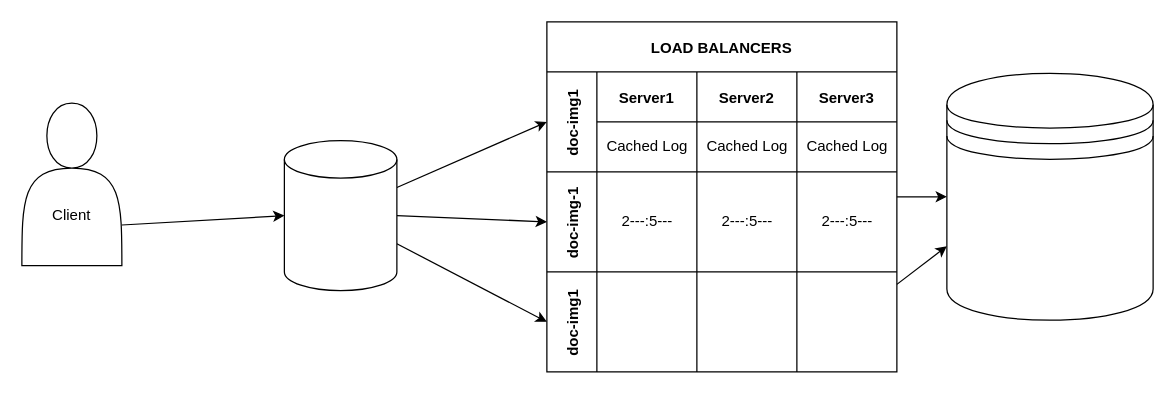
The diagram is 1175 pixels wide and 394 high, and some of its shapes have lost their labels. The shapes that lost their labels are listed below. From the top down, each one's centre as x and y in pixels, then its label:
(x=340, y=215): Server
(x=1049, y=196): DATABASE
